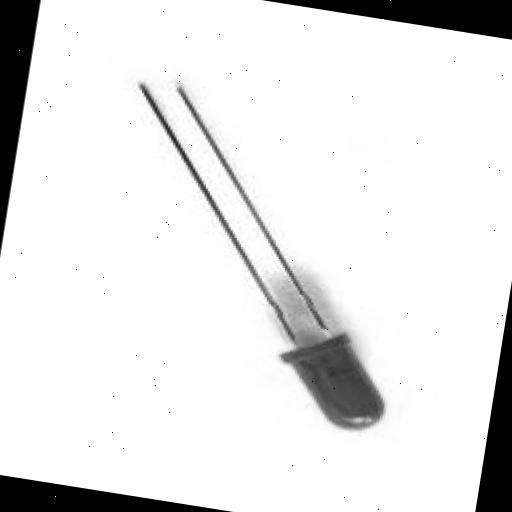LED: (142, 157, 488, 484)
